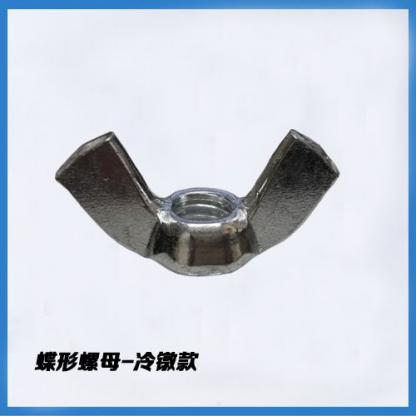FOD: (56, 125, 342, 283)
